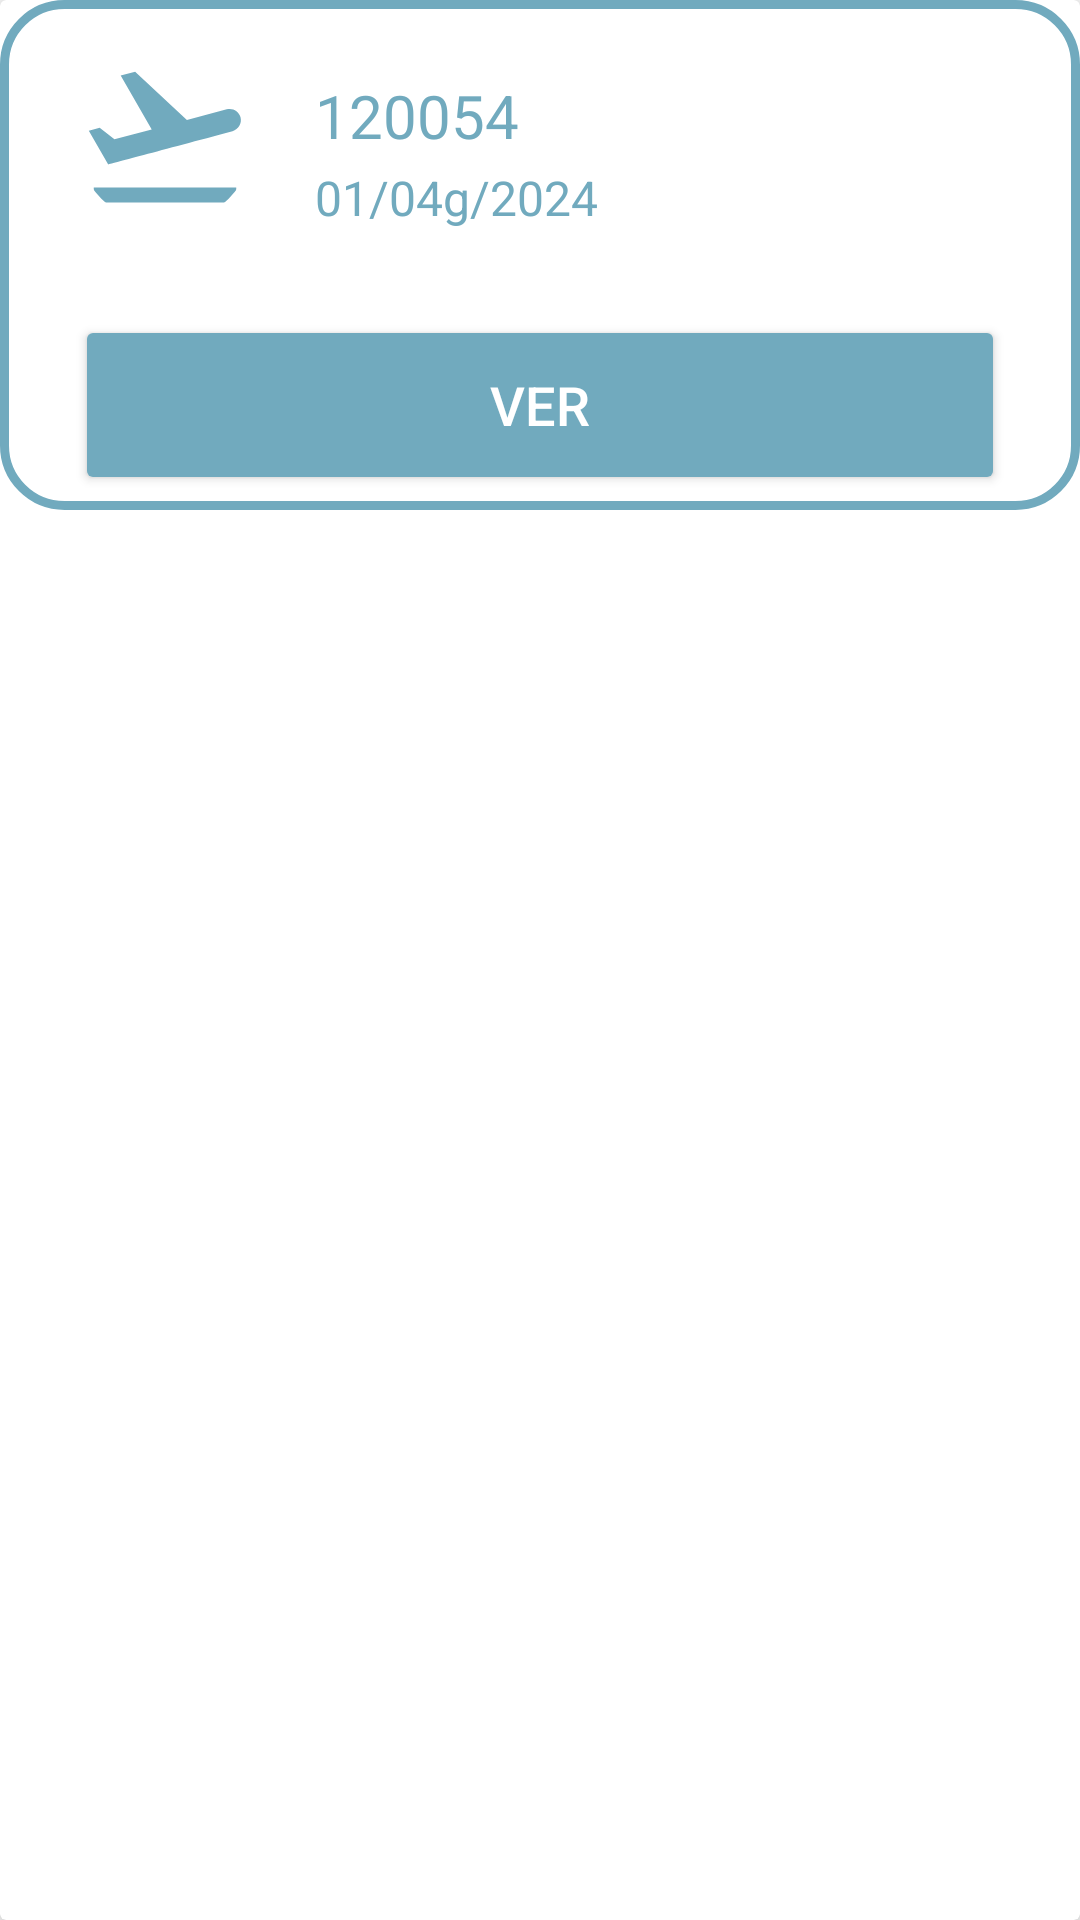

Where icons sit on this 1080px x 1920px app screen, as detection(x1, y1, x2, y2):
flight takeoff: detection(89, 72, 241, 203)
